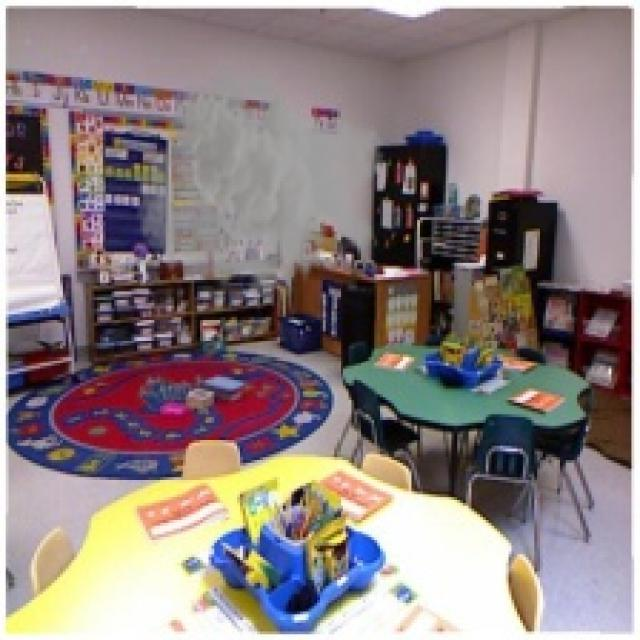Smoke: (134, 57, 386, 317)
